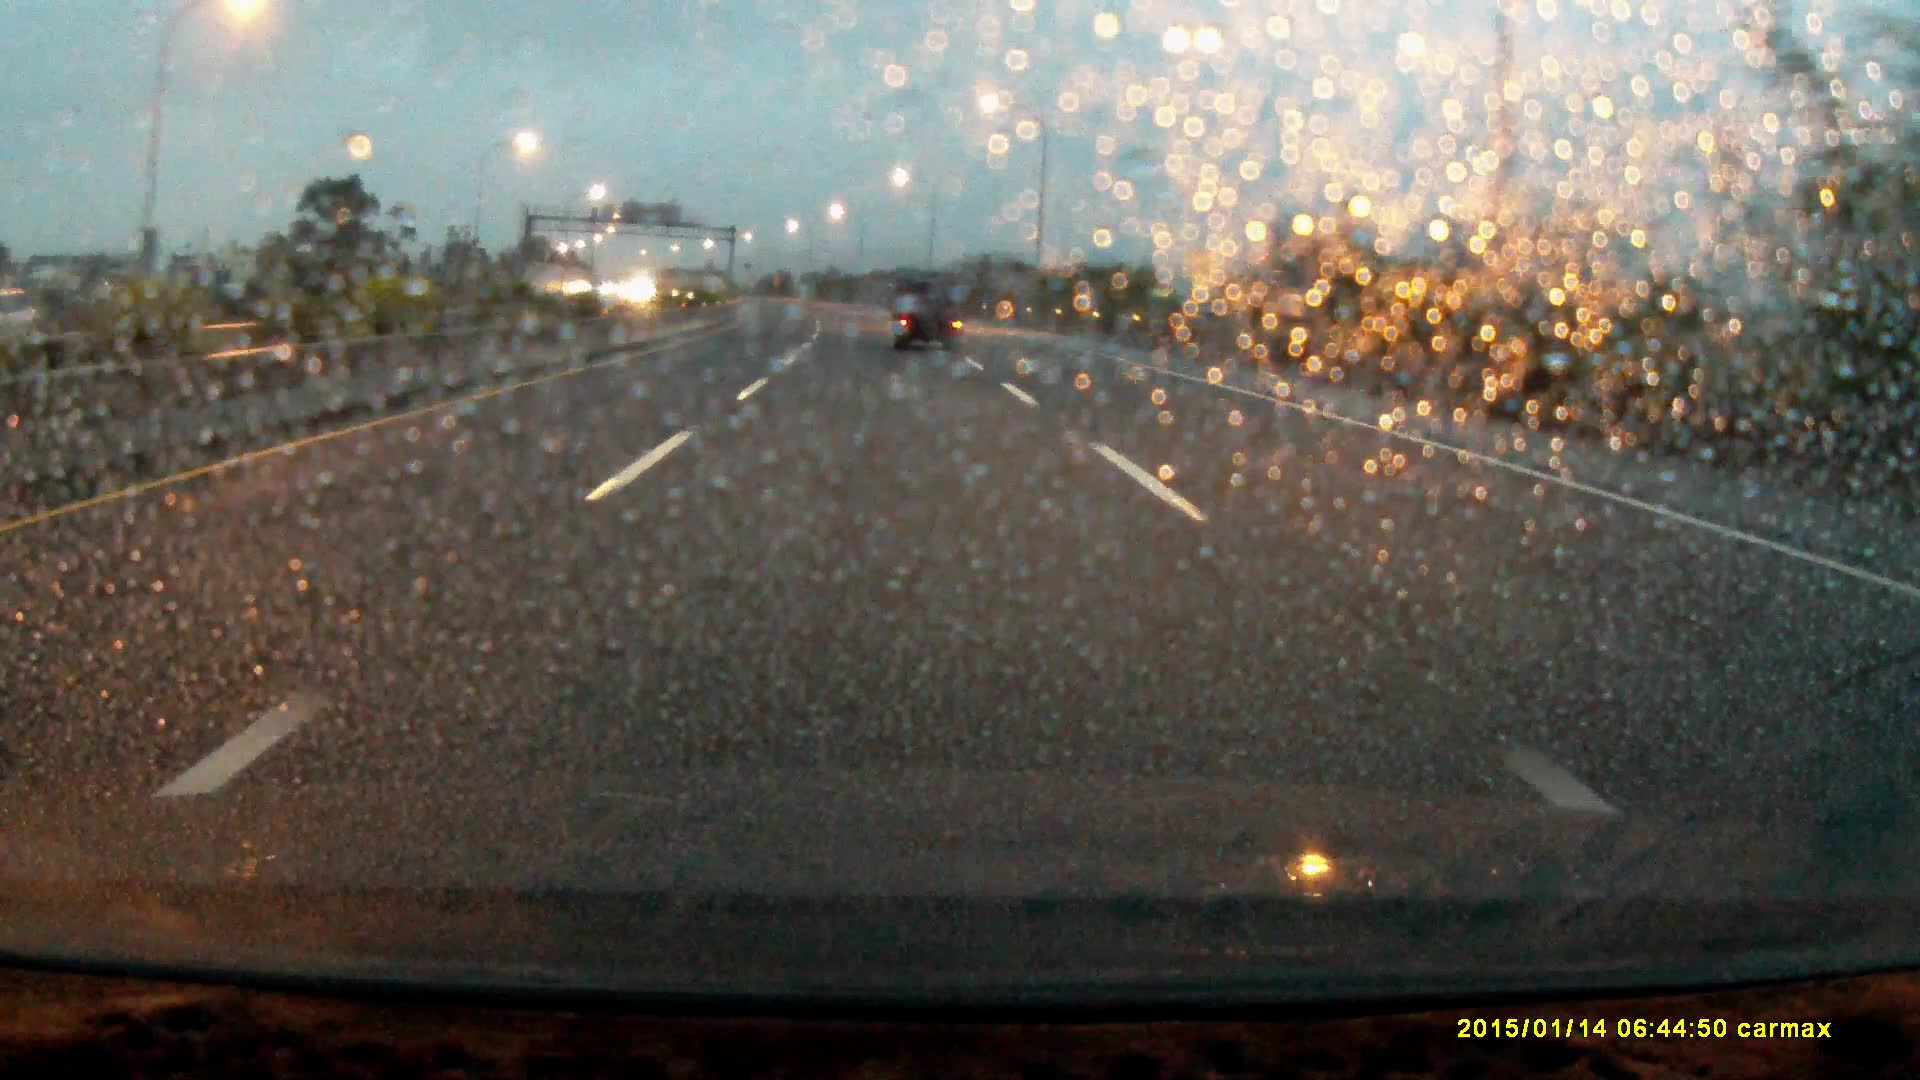vehicle: (893, 272, 967, 353)
